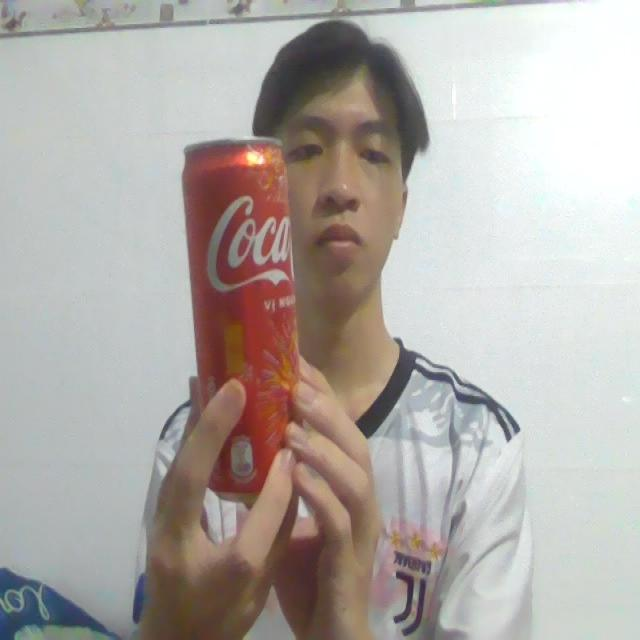cocacola: (170, 124, 314, 507)
